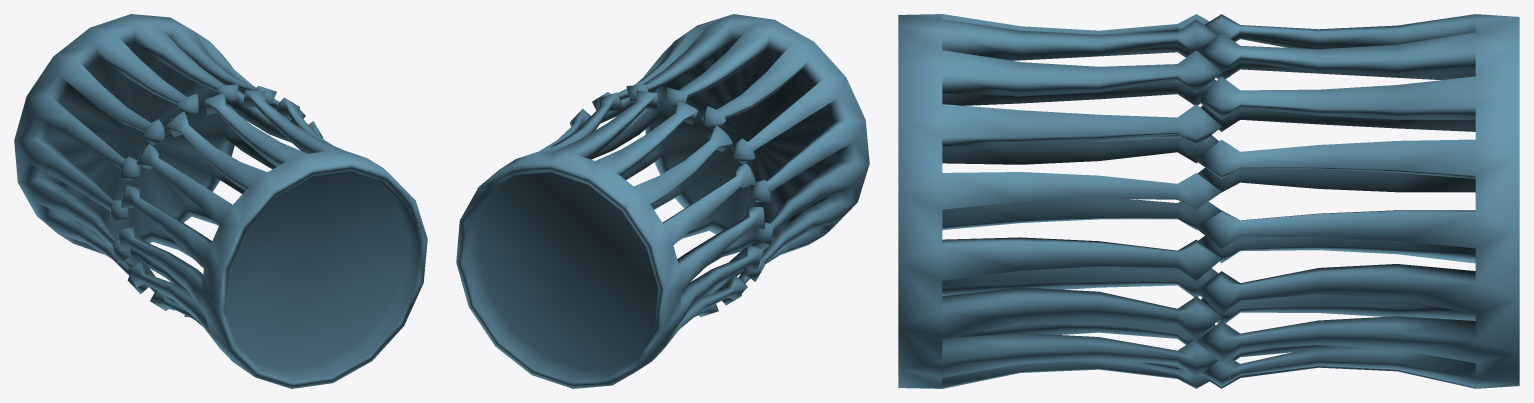
The model's file is microscopic-plankton-barrel-diatom_v1.glb.
3 views of the same model, side by side, from view 1: azimuth 30°, elevation 25°; view 2: azimuth 150°, elevation 25°; view 3: azimuth 270°, elevation 25° (orthographic). The views are drawn at different scales.
Visible parts, largest first — view 1: Barrel Diatom; view 2: Barrel Diatom; view 3: Barrel Diatom.
Part boxes in pixels (box(x1,y1,x2,y2)): Barrel Diatom: box(14, 14, 427, 388); Barrel Diatom: box(456, 14, 869, 388); Barrel Diatom: box(898, 14, 1519, 388).
Size of the model in its own units: 0.3021 by 0.3021 by 0.5.
